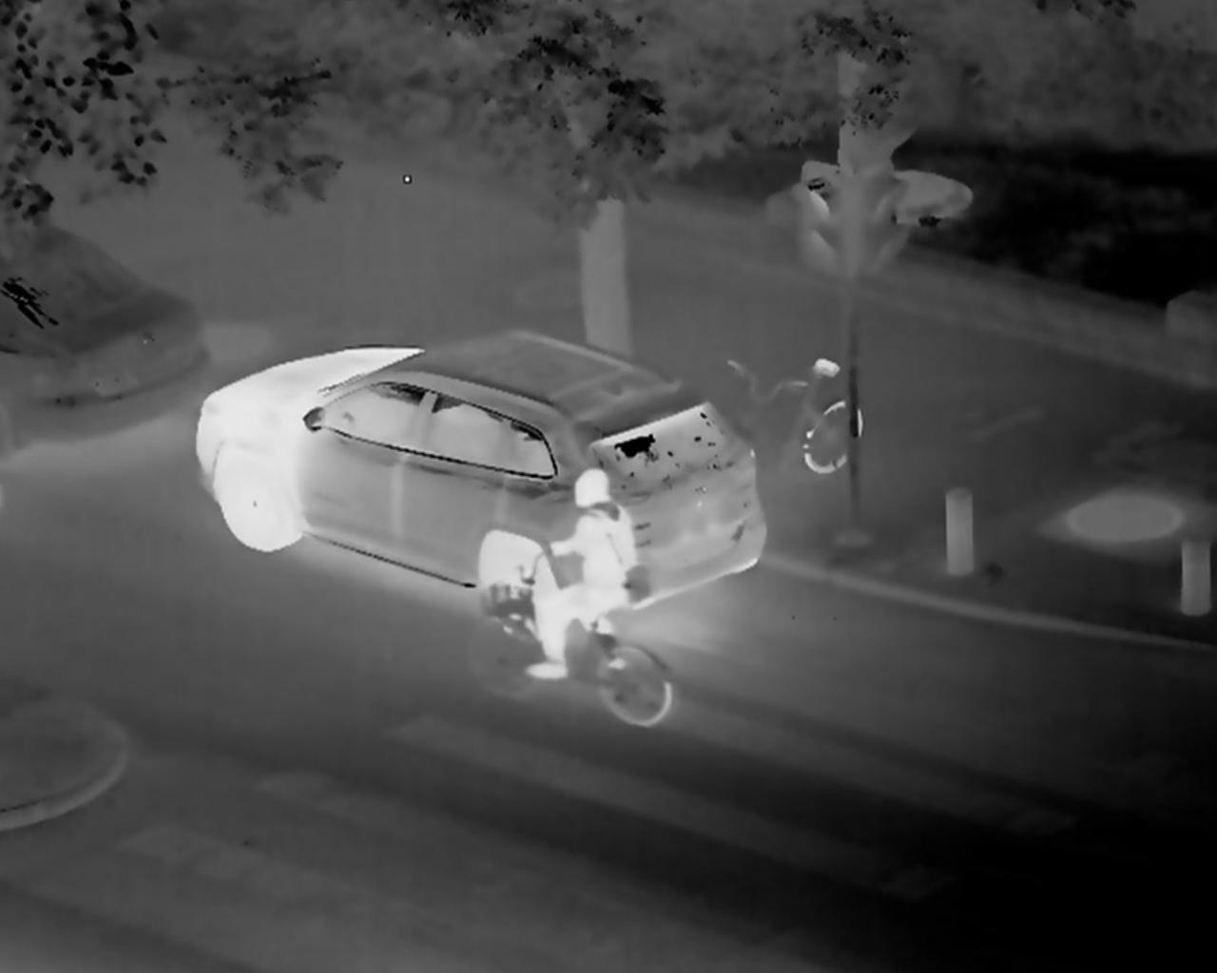person: (531, 471, 636, 683)
